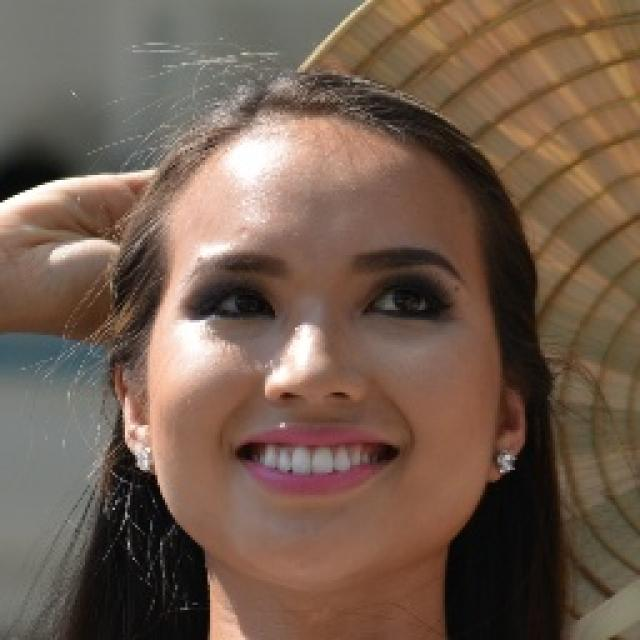earlobe: (112, 350, 156, 474), (488, 354, 526, 484)
